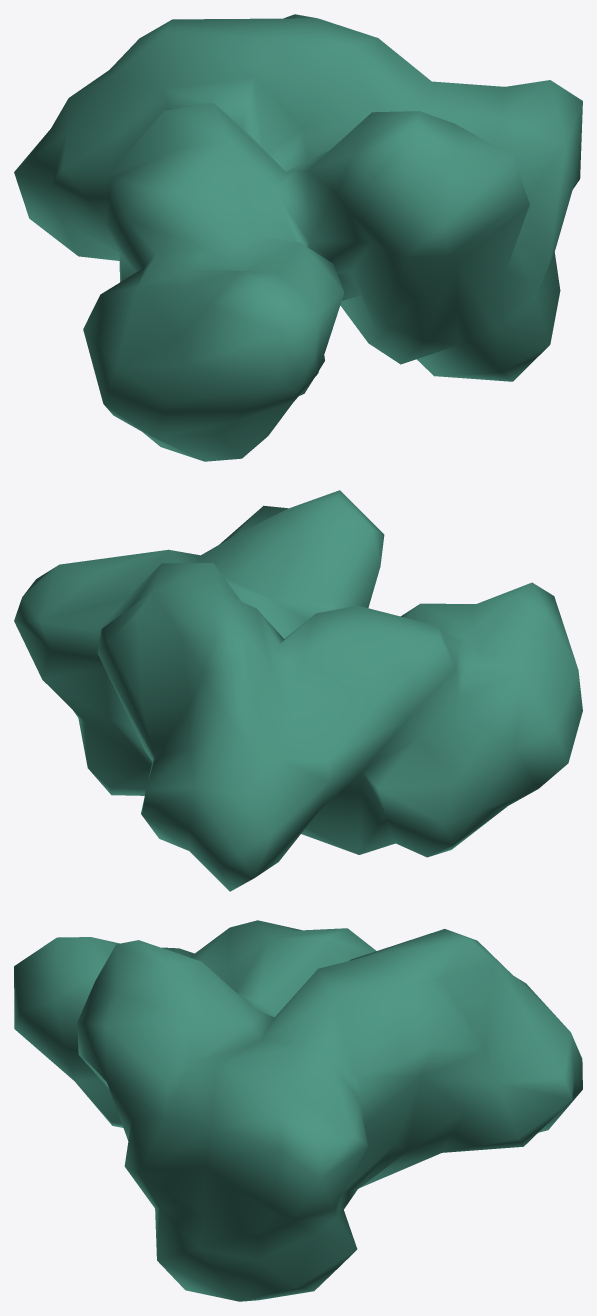
File: MiinBloodPlasma_HSA_StearicAcid_1e7i_0_1_0.dae
3 renders of one model, top to bottom at view 1: azimuth 30°, elevation 25°; view 2: azimuth 150°, elevation 25°; view 3: azimuth 270°, elevation 25°, orthographic. The views are drawn at different scales.
Parts seen in each view (by area): view 1: CoarseMS_1e7i; view 2: CoarseMS_1e7i; view 3: CoarseMS_1e7i.
Part boxes in pixels (x1,y1,x2,y2): CoarseMS_1e7i: [14, 14, 582, 461]; CoarseMS_1e7i: [14, 490, 582, 891]; CoarseMS_1e7i: [14, 920, 582, 1301].
Size of the model in its own units: 90.78 by 51.44 by 89.74.
